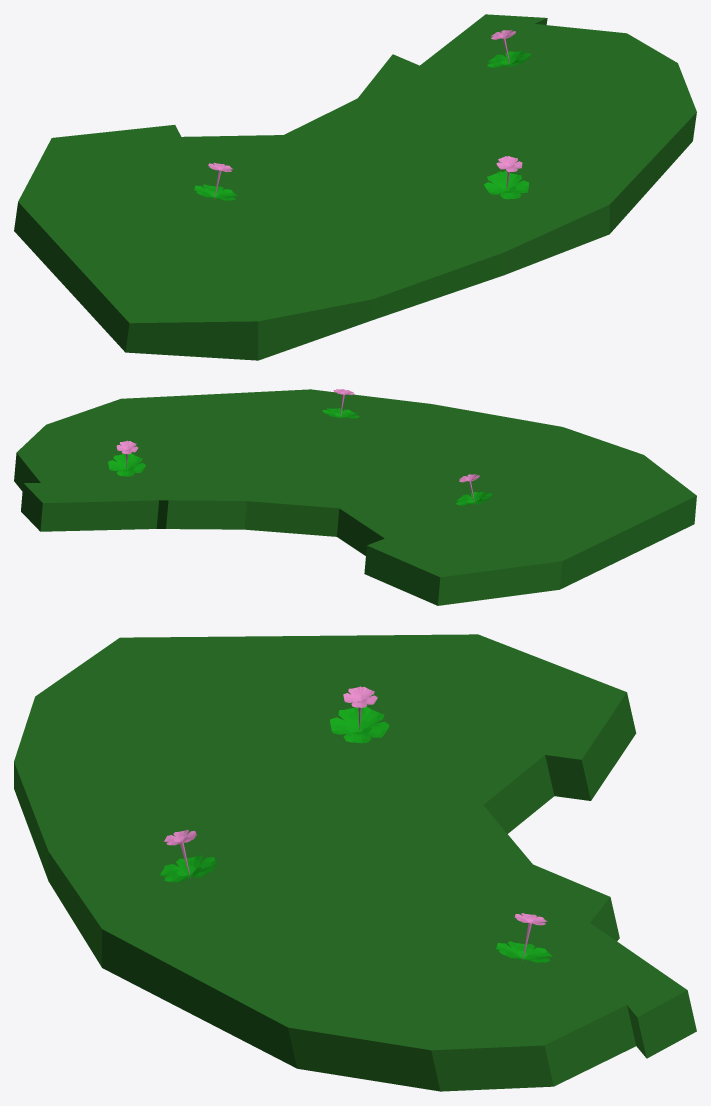
File: grass.fbx
3 views of the same model, one above another, from view 1: azimuth 30°, elevation 25°; view 2: azimuth 150°, elevation 25°; view 3: azimuth 270°, elevation 25° (orthographic). The views are drawn at different scales.
Visible parts, largest first — view 1: grass; view 2: grass; view 3: grass.
Boxes of the visible parts, bbox=[...] form: grass: bbox=[14, 14, 696, 360]; grass: bbox=[14, 389, 696, 605]; grass: bbox=[14, 634, 696, 1091].
Size of the model in its own units: 193 by 23.12 by 130.
